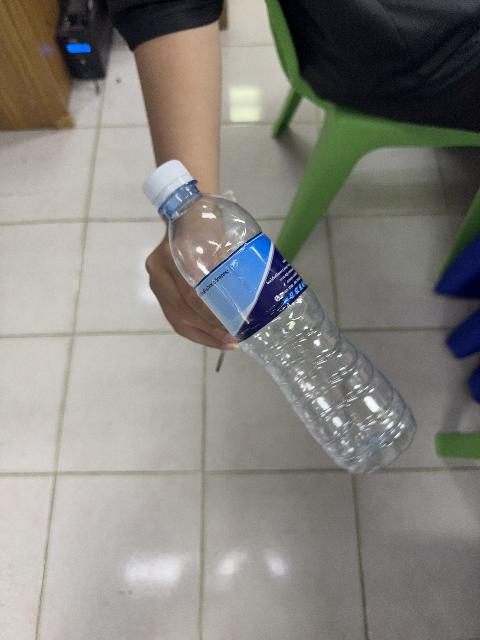bottle: (144, 161, 415, 473)
